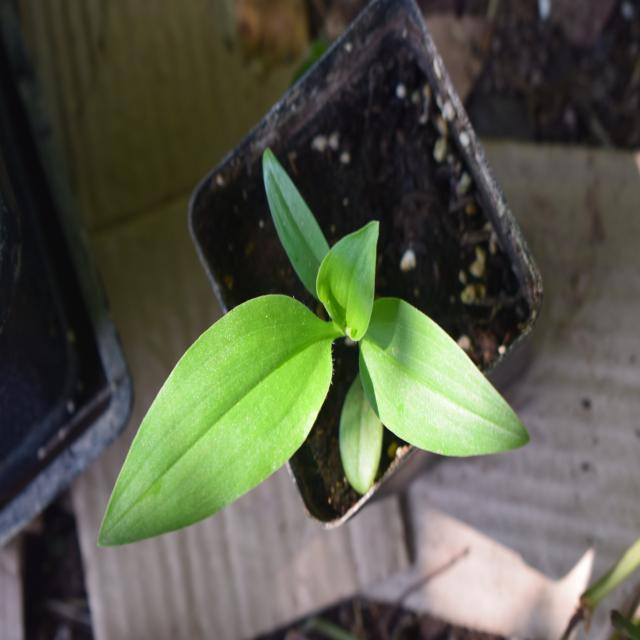Common Dayflower: (109, 189, 527, 544)
